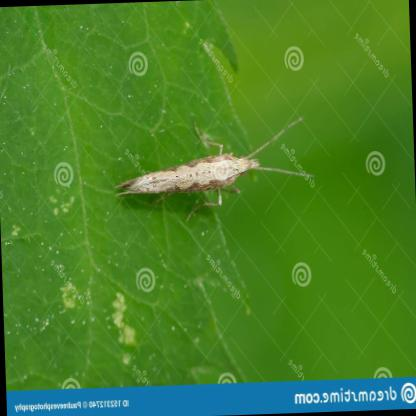plutella: (108, 108, 322, 201)
